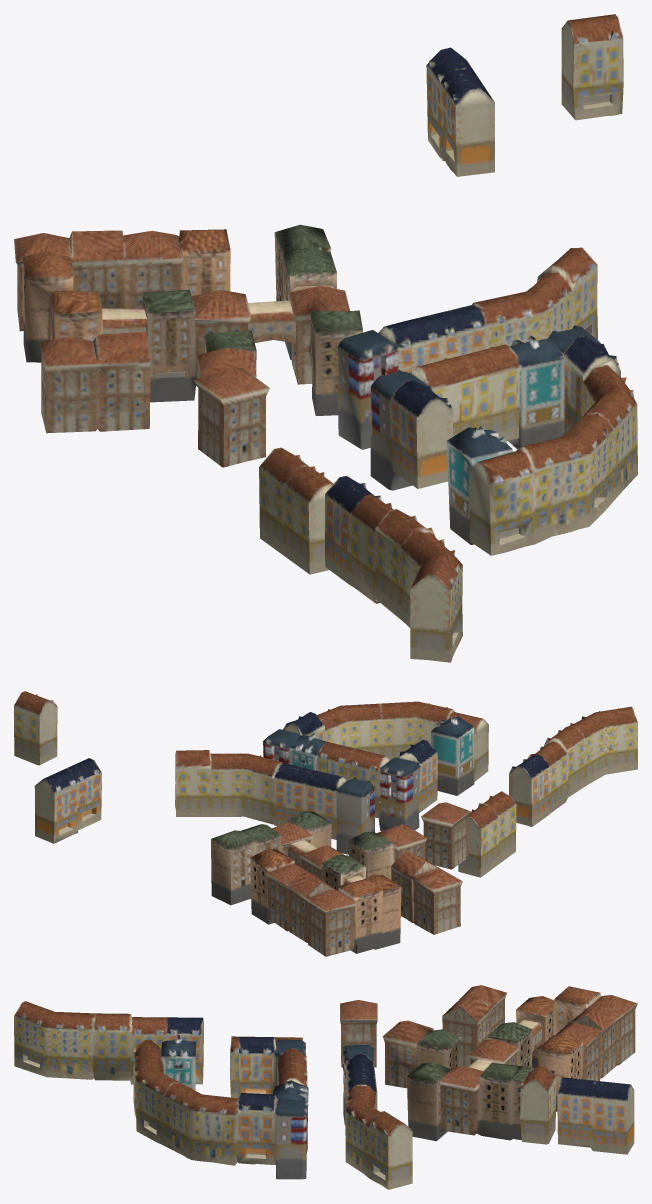
Rendered from clod_c01_both_01_clod006.gltf.
3 views of the same model, one above another, from view 1: azimuth 30°, elevation 25°; view 2: azimuth 150°, elevation 25°; view 3: azimuth 270°, elevation 25° (orthographic). The views are drawn at different scales.
Parts seen in each view (by area): view 1: clod_c01_both_01_clod006_000_meshShape:remesh_mat; view 2: clod_c01_both_01_clod006_000_meshShape:remesh_mat; view 3: clod_c01_both_01_clod006_000_meshShape:remesh_mat.
Boxes of the visible parts, x1=… form: clod_c01_both_01_clod006_000_meshShape:remesh_mat: x1=14, y1=14, x2=637, y2=662; clod_c01_both_01_clod006_000_meshShape:remesh_mat: x1=14, y1=691, x2=637, y2=956; clod_c01_both_01_clod006_000_meshShape:remesh_mat: x1=14, y1=985, x2=637, y2=1189.
Size of the model in its own units: 150 by 63.3 by 187.
Materials: 1 (1 with a texture image).
